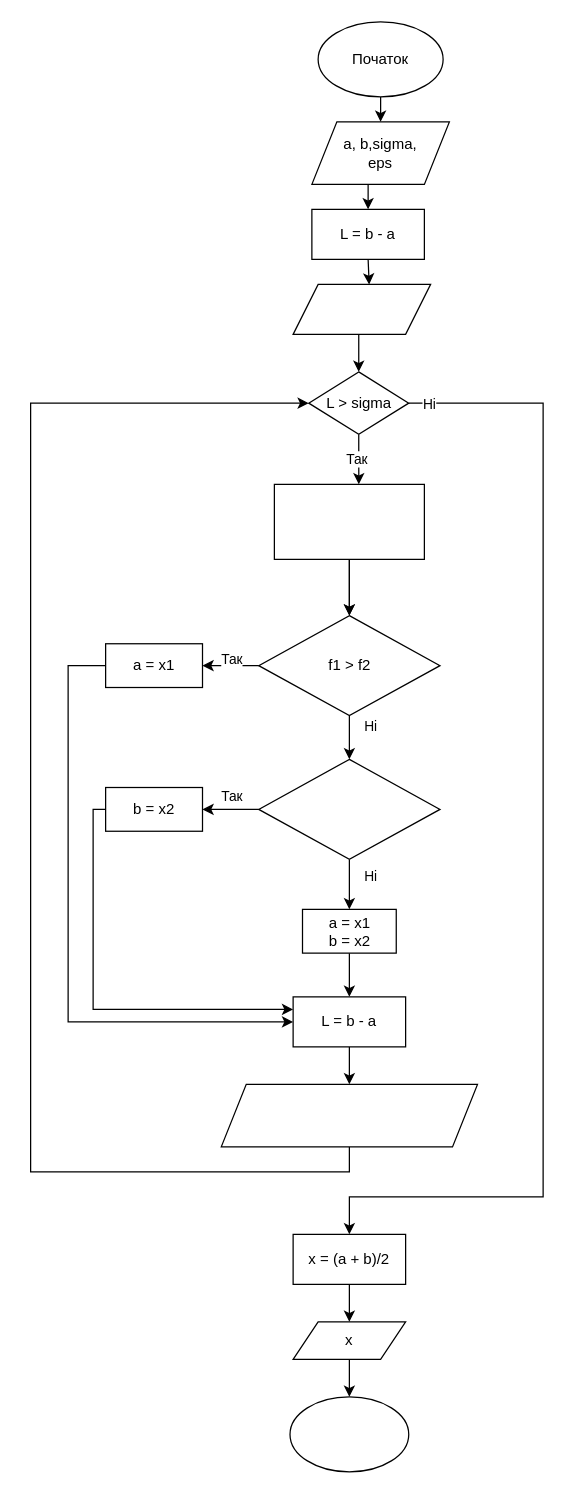
Image size: 575x1494. Some labels were removed from this diagram. The shapes that lost their labels are listed below. From the top down, each one's centre as x and y in pixels, then its label:
[361,308]: a, b, L
[348,521]: x1 = (a + b)/2 - eps/2 x2 = x1 + eps f1 = func(x1) f2 = func(x2)
[349,808]: f1 < f2
[349,1115]: x1, x2, func(x1), func(x2), a, b, L
[349,1434]: Кінець
